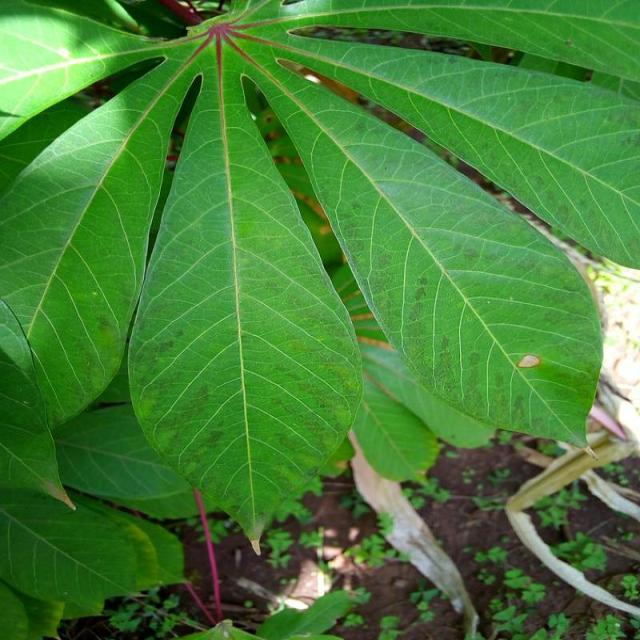cassava leaf: (1, 0, 638, 636), (230, 33, 605, 458), (126, 36, 364, 555)
